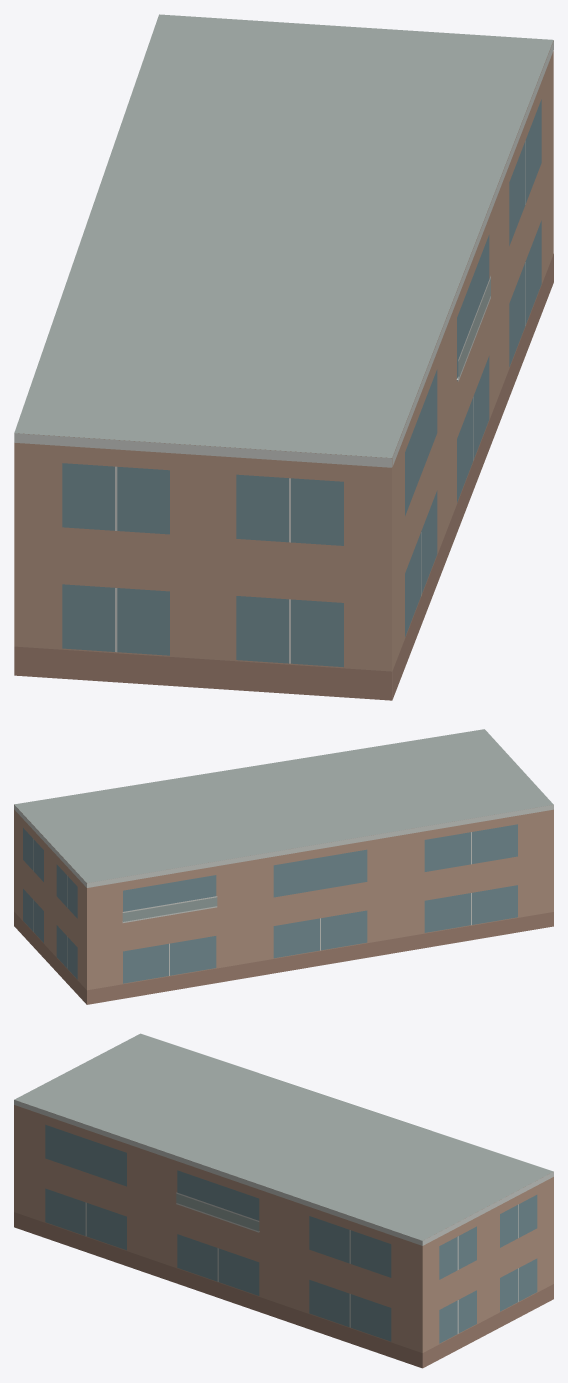
Rendered from survey-upis-32607492.glb.
The picture shows the model from 3 angles, top to bottom: view 1: azimuth 30°, elevation 25°; view 2: azimuth 150°, elevation 25°; view 3: azimuth 270°, elevation 25°; orthographic projection. The views are drawn at different scales.
Parts seen in each view (by area): view 1: survey-upis-32607492.tmp; view 2: survey-upis-32607492.tmp; view 3: survey-upis-32607492.tmp.
Part boxes in pixels (x1,y1,x2,y2): survey-upis-32607492.tmp: (14, 14, 553, 700); survey-upis-32607492.tmp: (14, 729, 553, 1004); survey-upis-32607492.tmp: (14, 1033, 553, 1368).
Size of the model in its own units: 21.28 by 6.1 by 23.41.
